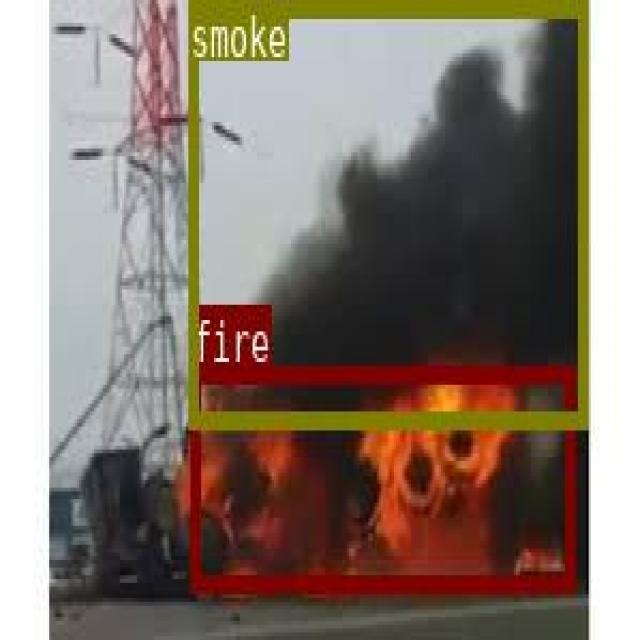fire: (189, 364, 572, 589)
smoke: (186, 0, 587, 427)
